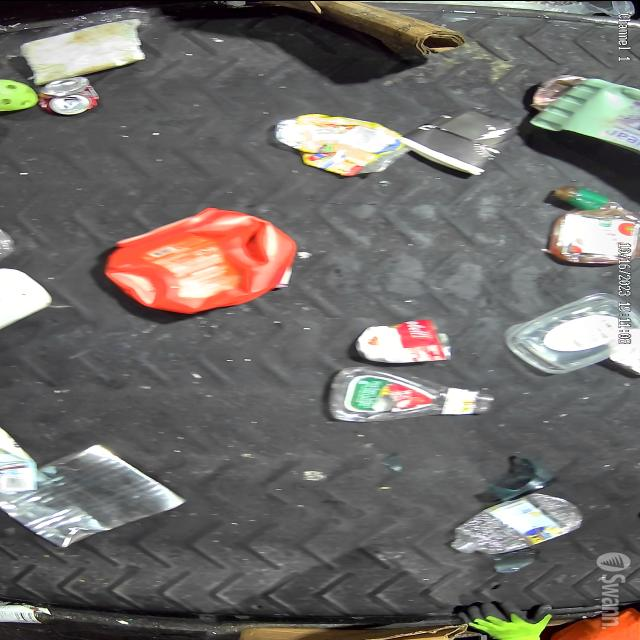can: (0, 442, 189, 549), (353, 322, 459, 363), (38, 76, 100, 116), (0, 602, 58, 624)
non_white_jug: (101, 203, 300, 314)
plastic_bottle: (321, 364, 500, 424), (448, 492, 586, 556)
